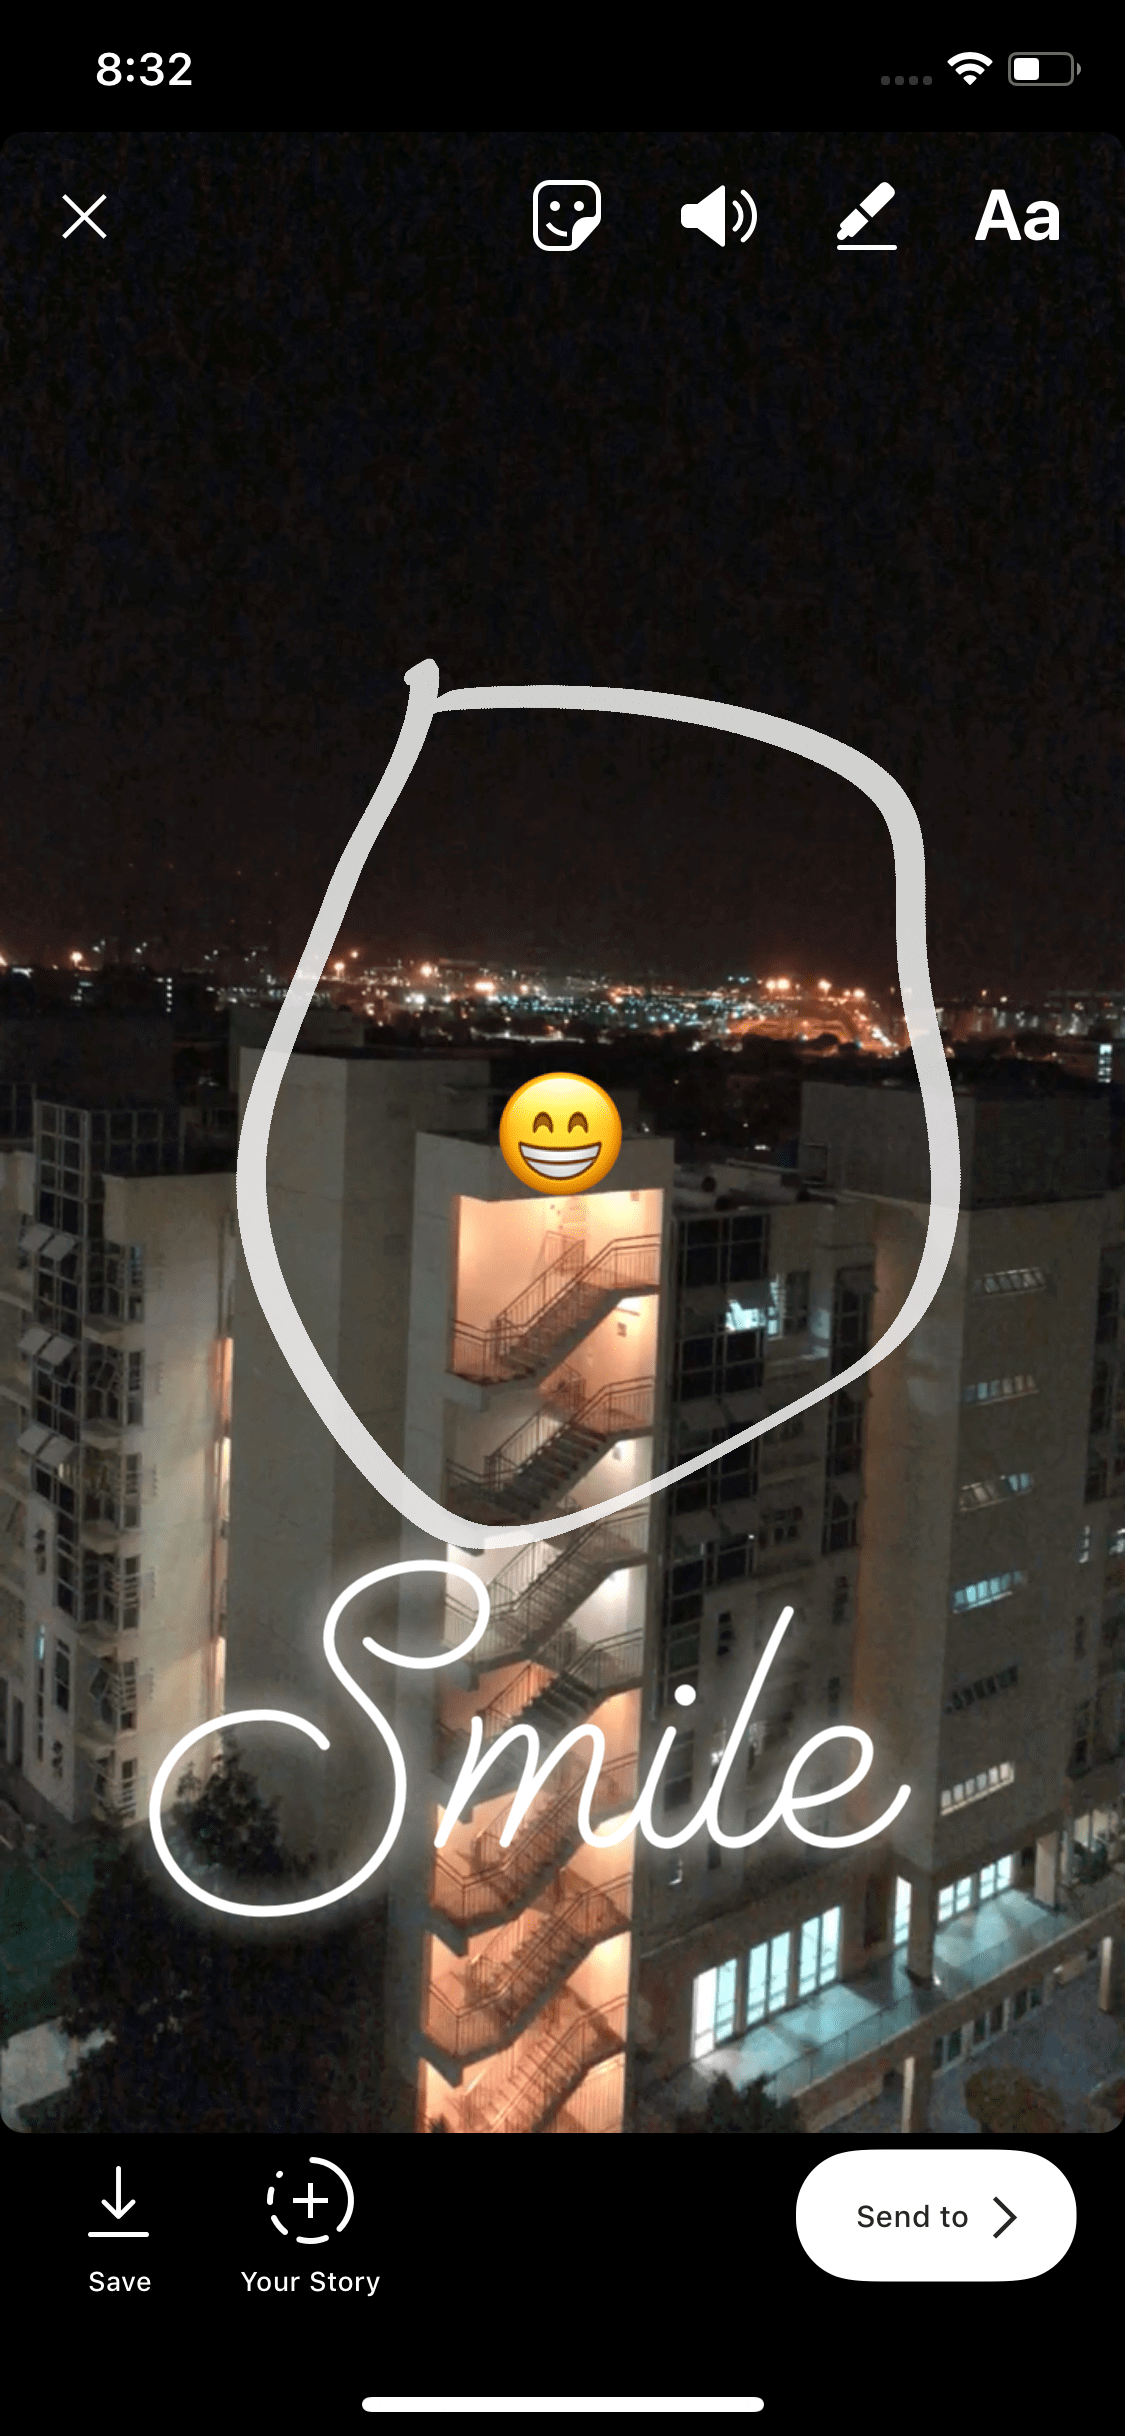Buttons: (794, 2142, 1081, 2288), (230, 2152, 393, 2310), (53, 2153, 190, 2312), (496, 149, 629, 277), (19, 152, 154, 277), (954, 148, 1077, 275), (810, 148, 928, 277), (667, 148, 775, 275)
